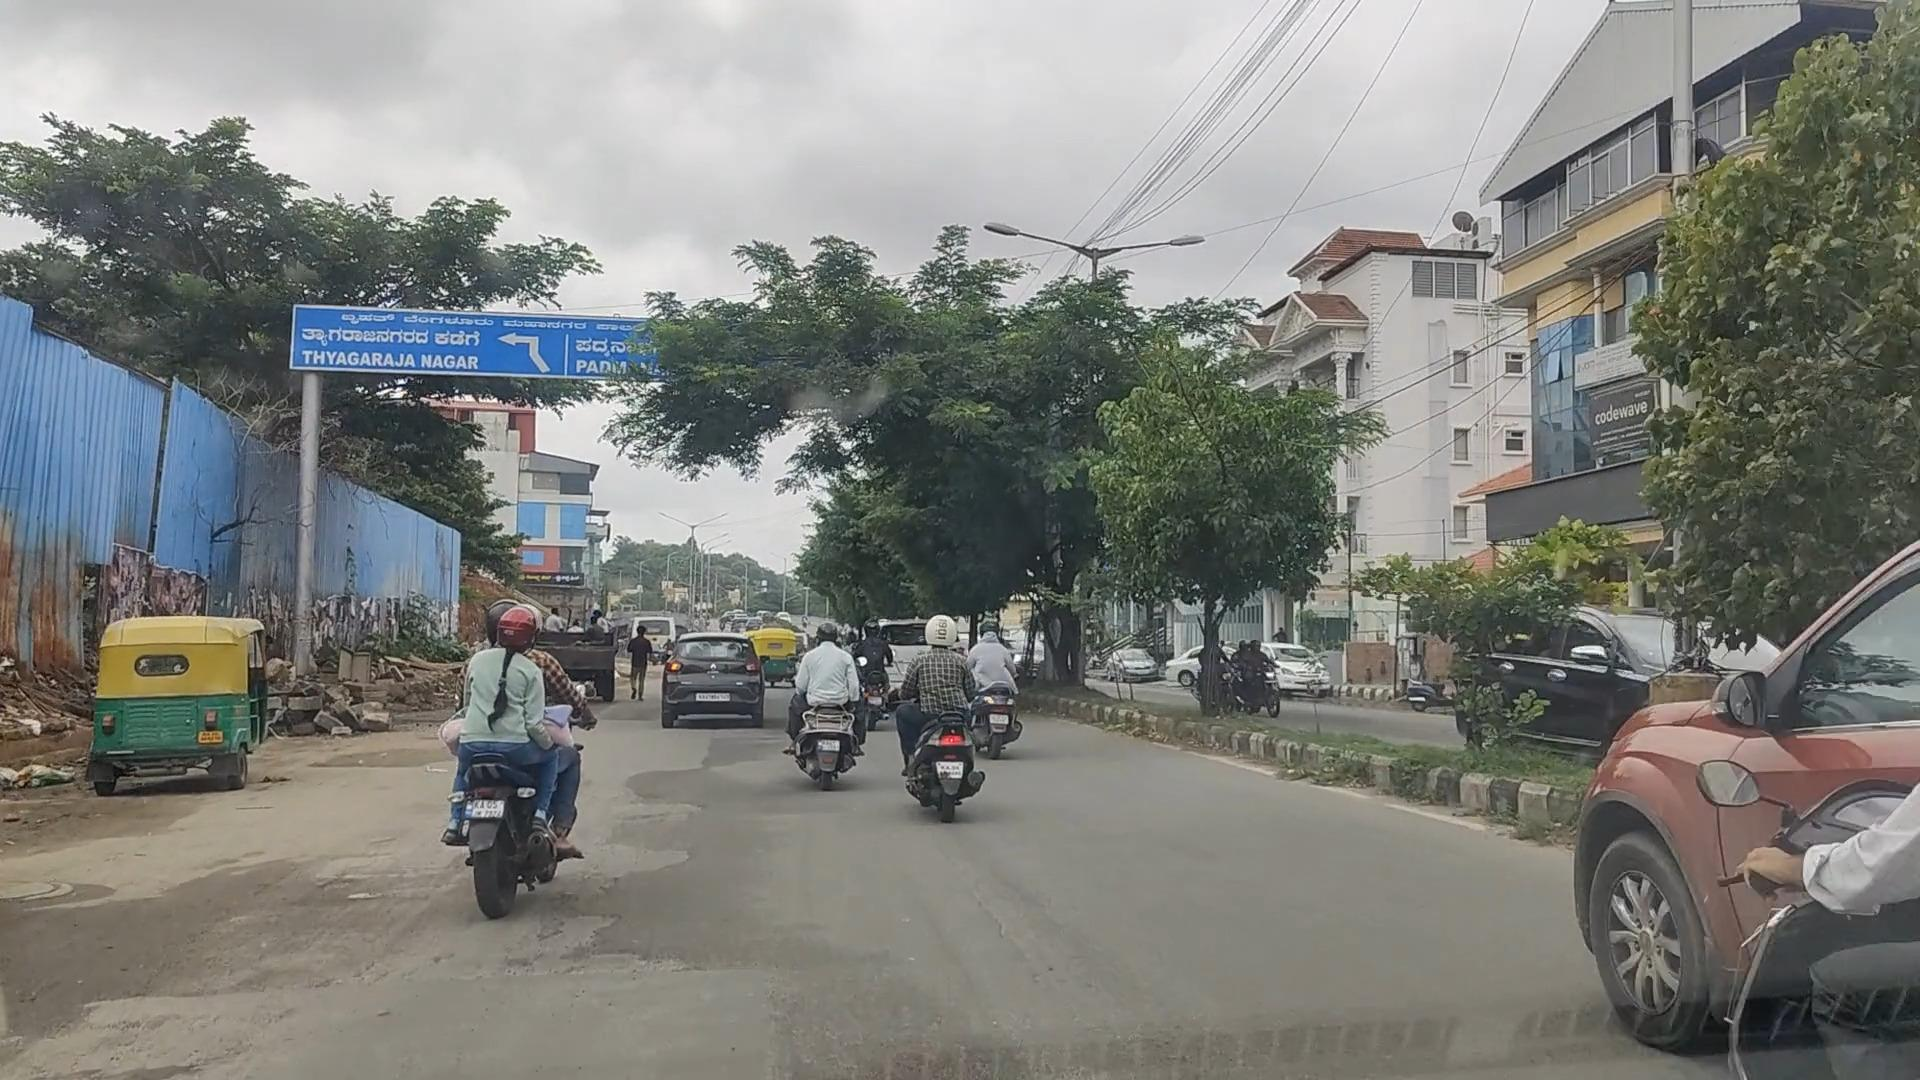LMV: (456, 604, 579, 918), (100, 620, 247, 796), (899, 613, 971, 789), (794, 620, 849, 778), (663, 633, 761, 723), (968, 600, 1021, 762)
RoadDamages: (410, 890, 729, 997), (223, 820, 388, 969), (30, 977, 266, 1080), (611, 753, 727, 872), (3, 853, 116, 936)
